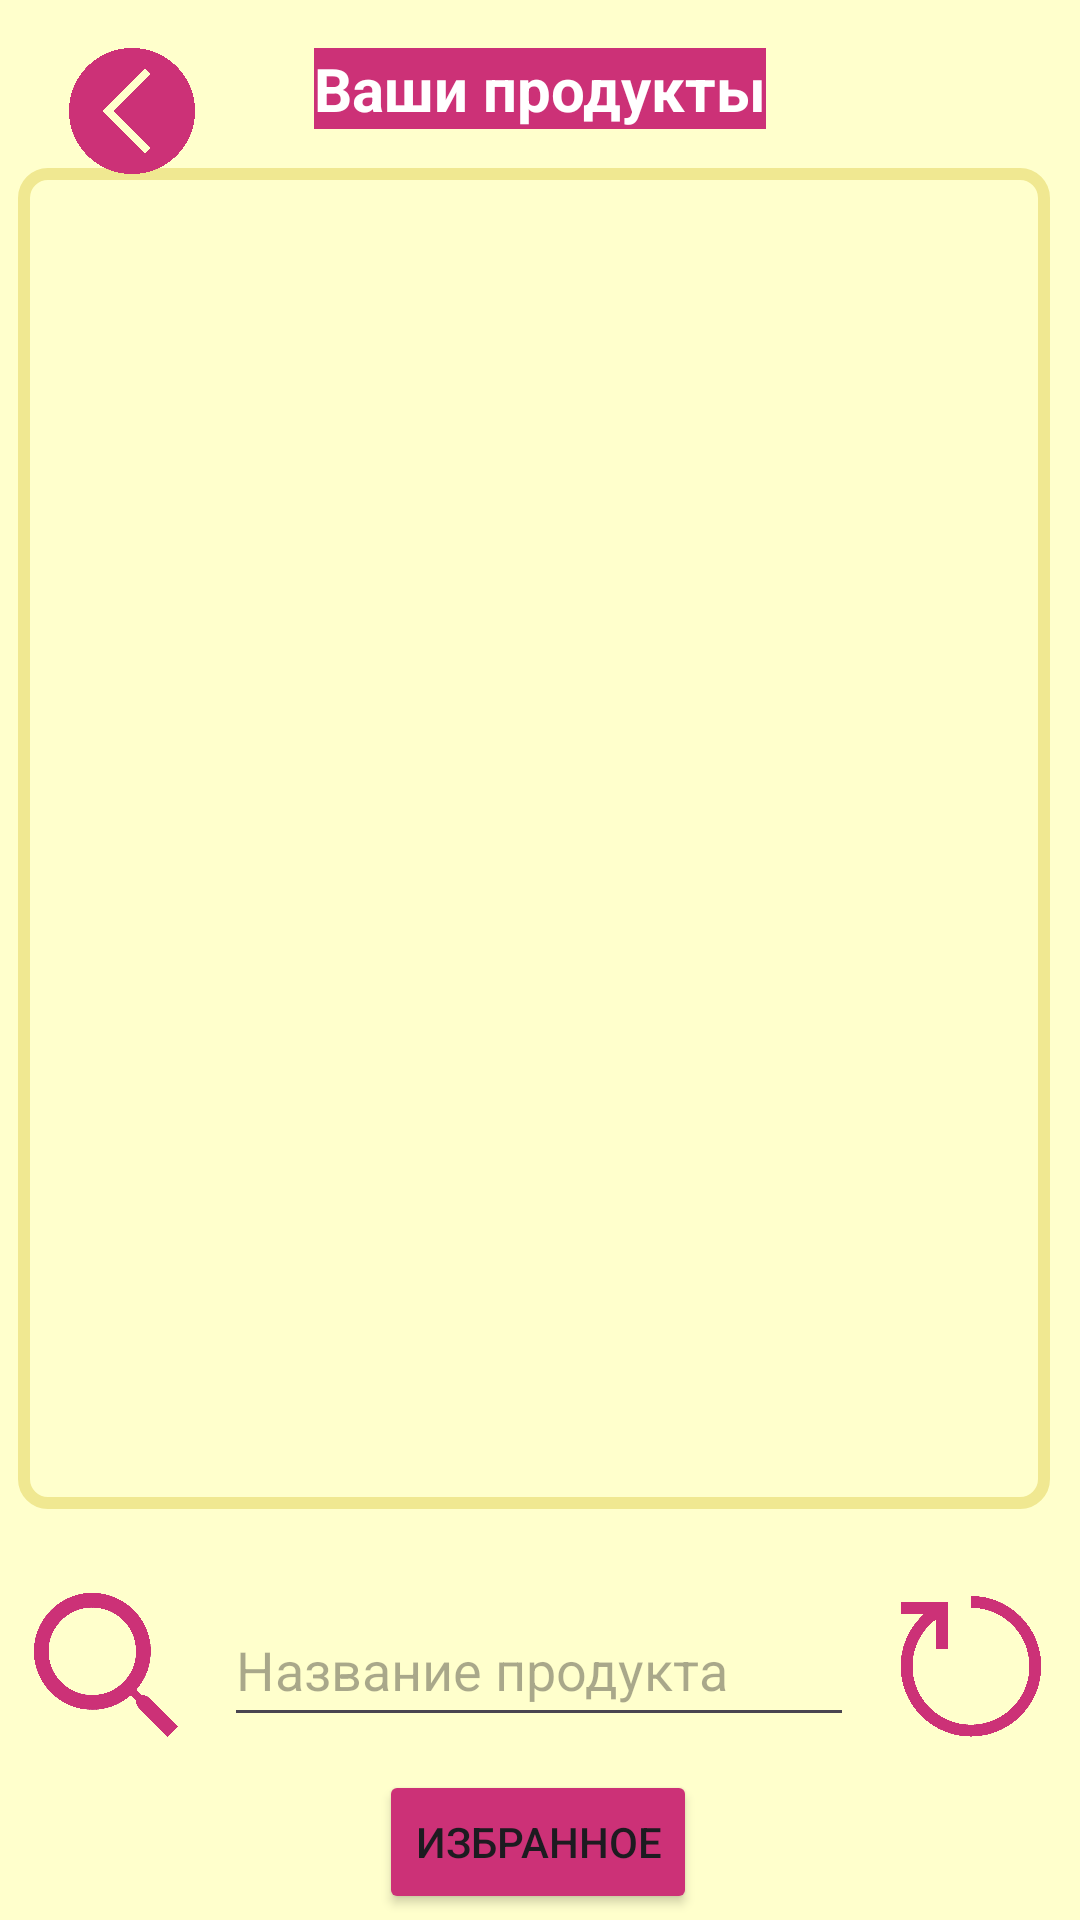

Screen size 1080w x 1920h. Icon name, then its box in pixels as (x1, y1, x2, y2):
back: (54, 48, 210, 174)
lupa: (34, 1593, 178, 1737)
sbros: (901, 1596, 1041, 1737)
